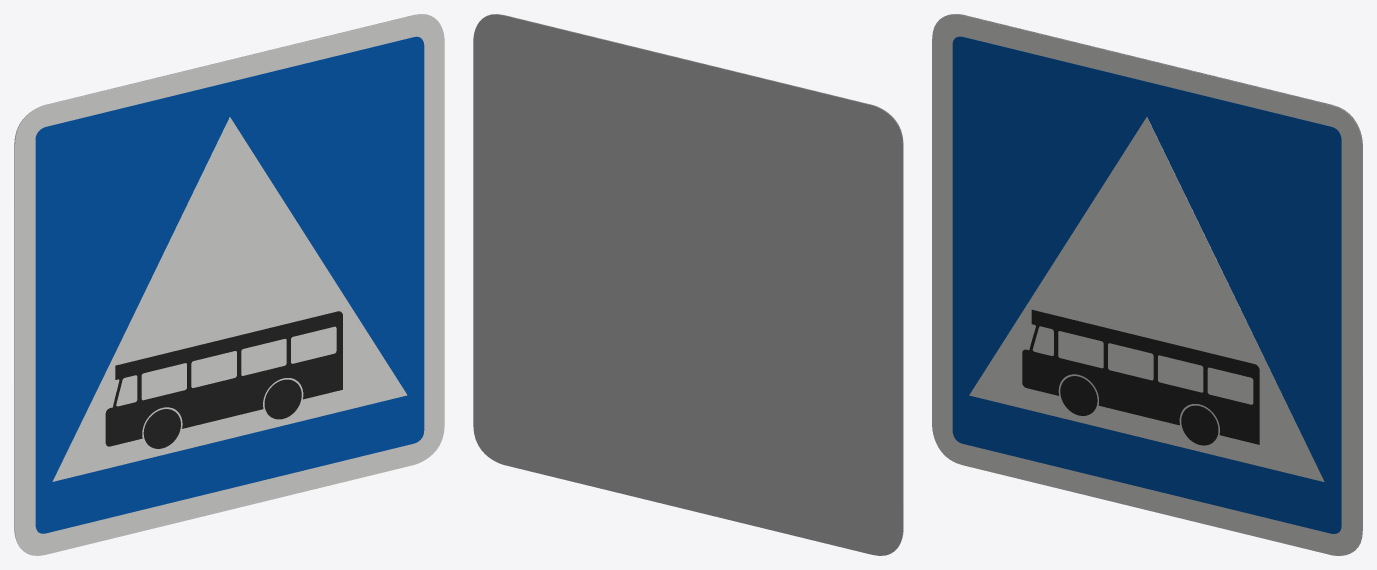
3 views of the same model, side by side, from view 1: azimuth 30°, elevation 25°; view 2: azimuth 150°, elevation 25°; view 3: azimuth 330°, elevation 25° (orthographic).
Parts seen in each view (by area): view 1: C20b_p01, C20b_p02, C20b_p00, C20b_p03, C20b_dos; view 2: C20b_dos, C20b_p00; view 3: C20b_p01, C20b_p02, C20b_p00, C20b_p03, C20b_dos.
Boxes of the visible parts, x1=… form: C20b_p01: x1=35, y1=36, x2=424, y2=533; C20b_p02: x1=52, y1=117, x2=407, y2=481; C20b_p00: x1=15, y1=14, x2=444, y2=555; C20b_p03: x1=105, y1=311, x2=342, y2=448; C20b_dos: x1=14, y1=14, x2=430, y2=548; C20b_dos: x1=473, y1=14, x2=902, y2=555; C20b_p00: x1=487, y1=14, x2=903, y2=548; C20b_p01: x1=952, y1=36, x2=1341, y2=533; C20b_p02: x1=969, y1=117, x2=1324, y2=481; C20b_p00: x1=932, y1=14, x2=1362, y2=555; C20b_p03: x1=1022, y1=309, x2=1259, y2=445; C20b_dos: x1=945, y1=14, x2=1362, y2=550.
Bounding box in the file's own units: 0.7 × 0.6999 × 0.0031.
